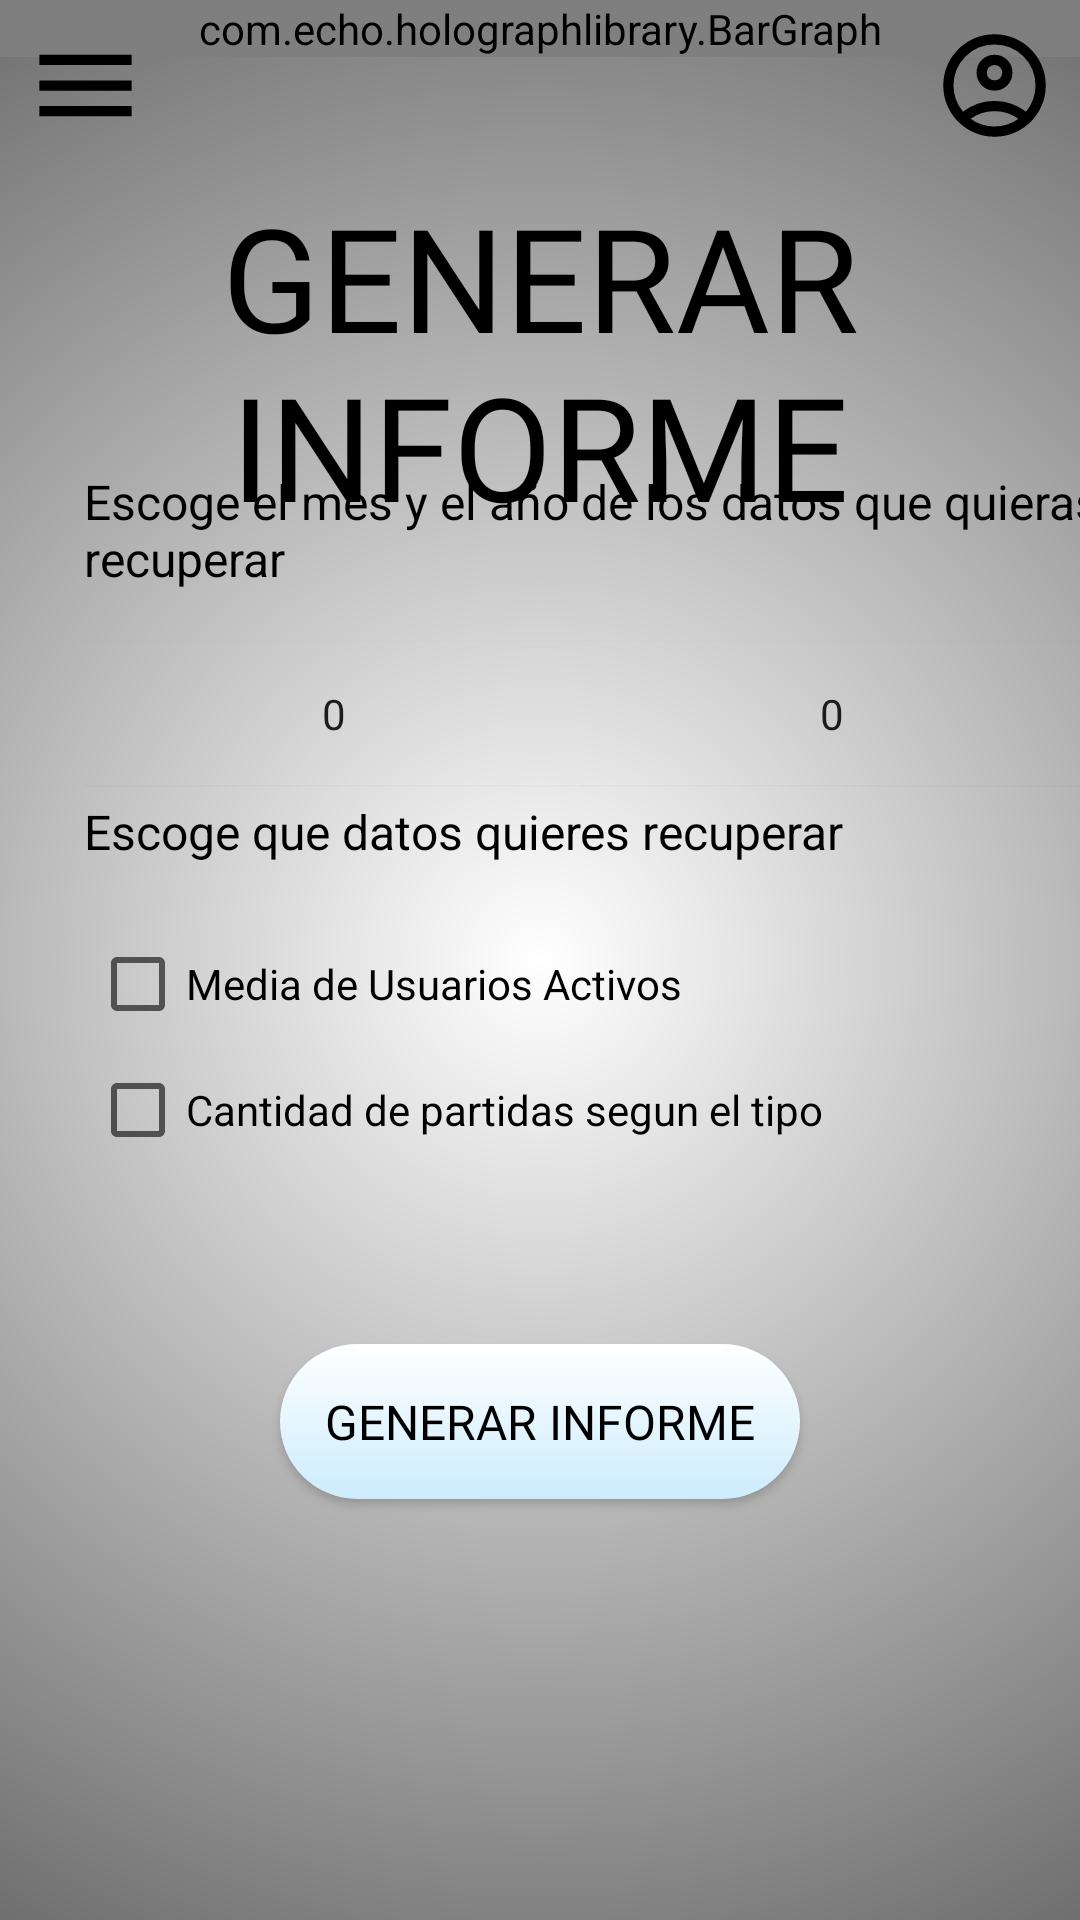

Screen size 1080w x 1920h. Icon name, then its center in pixels as (x=x, y=y):
account: (x=994, y=85)
menu: (x=85, y=85)
